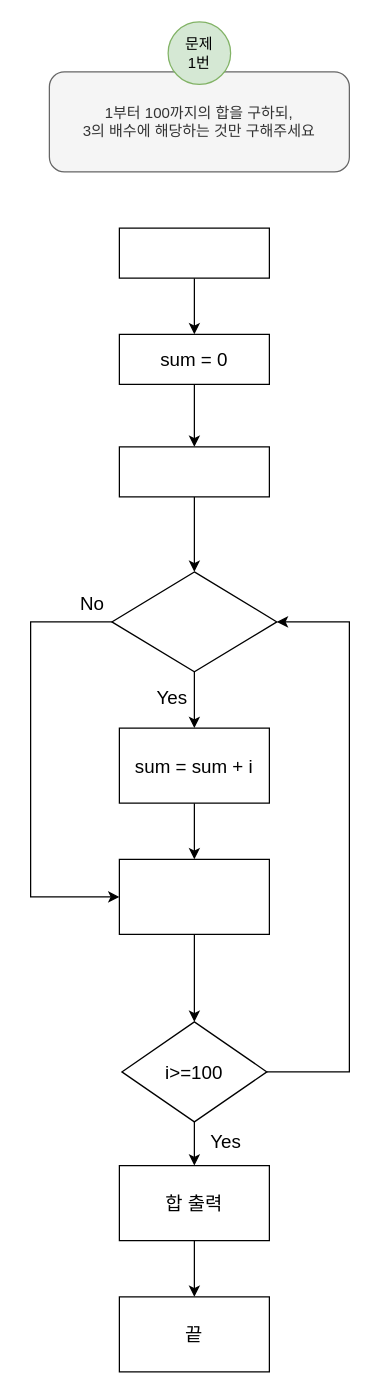
Some shapes in this 381 by 1394 pixel diagram are drawn without their labels. Each missing label, with the box of its shape:
i = 0;: (118, 446, 269, 497)
i%3==0: (111, 571, 277, 672)
i++: (118, 858, 269, 934)
시작: (118, 227, 269, 278)
